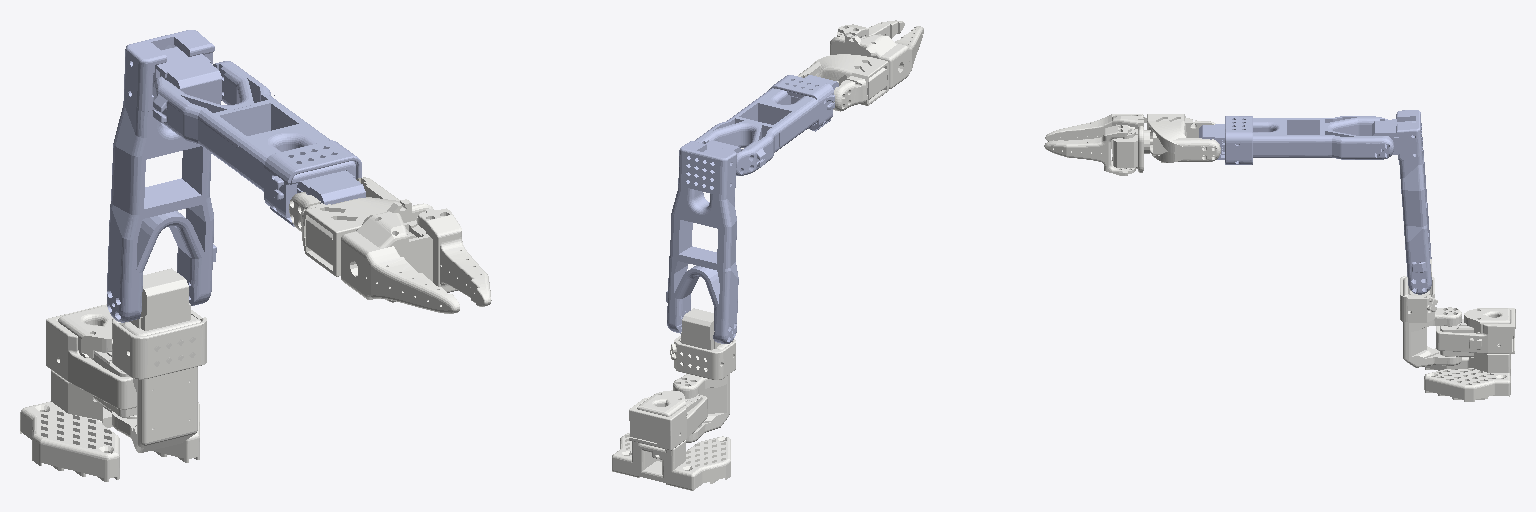
The robot description file, URDF, robot "soarm101_40mmUP":
<?xml version="1.0" encoding="utf-8"?>
<!-- This URDF was automatically created by SolidWorks to URDF Exporter! Originally created by Stephen Brawner (brawner@gmail.com) 
     Commit Version: 1.6.0-4-g7f85cfe  Build Version: 1.6.7995.38578
     For more information, please see http://wiki.ros.org/sw_urdf_exporter -->
<robot
  name="soarm101_40mmUP">
  <link
    name="base_link">
    <inertial>
      <origin
        xyz="-0.00013957 -0.018363 0.030861"
        rpy="0 0 0" />
      <mass
        value="0.189" />
      <inertia
        ixx="0.00013624"
        ixy="5.1198E-07"
        ixz="-6.3004E-09"
        iyy="0.00014751"
        iyz="-2.1157E-05"
        izz="0.00017587" />
    </inertial>
    <visual>
      <origin
        xyz="0 0 0"
        rpy="0 0 0" />
      <geometry>
        <mesh
          filename="package://dt_arm_description/meshes/base_link.STL" />
      </geometry>
      <material
        name="">
        <color
          rgba="0.96471 0.96471 0.95294 1" />
      </material>
    </visual>
    <collision>
      <origin
        xyz="0 0 0"
        rpy="0 0 0" />
      <geometry>
        <mesh
          filename="package://dt_arm_description/meshes/base_link.STL" />
      </geometry>
    </collision>
  </link>
  <link
    name="shoulder_link">
    <inertial>
      <origin
        xyz="0.00010759 0.031165 0.02881"
        rpy="0 0 0" />
      <mass
        value="0.11565" />
      <inertia
        ixx="5.9357E-05"
        ixy="8.6054E-08"
        ixz="-3.6155E-07"
        iyy="5.7575E-05"
        iyz="-4.5285E-06"
        izz="3.2083E-05" />
    </inertial>
    <visual>
      <origin
        xyz="0 0 0"
        rpy="0 0 0" />
      <geometry>
        <mesh
          filename="package://dt_arm_description/meshes/shoulder_link.STL" />
      </geometry>
      <material
        name="">
        <color
          rgba="0.96471 0.96471 0.95294 1" />
      </material>
    </visual>
    <collision>
      <origin
        xyz="0 0 0"
        rpy="0 0 0" />
      <geometry>
        <mesh
          filename="package://dt_arm_description/meshes/shoulder_link.STL" />
      </geometry>
    </collision>
  </link>
  <joint
    name="shoulder_pan"
    type="revolute">
    <origin
      xyz="-0.00025 -0.0449 0.046575"
      rpy="0 0 -3.1416" />
    <parent
      link="base_link" />
    <child
      link="shoulder_link" />
    <axis
      xyz="0 0 1" />
    <limit
      lower="-1.9199"
      upper="1.9199"
      effort="10"
      velocity="10" />
  </joint>
  <link
    name="upper_arm_link">
    <inertial>
      <origin
        xyz="-0.096849 0.0026864 -0.0016724"
        rpy="0 0 0" />
      <mass
        value="0.16075" />
      <inertia
        ixx="6.7583E-05"
        ixy="-1.2542E-06"
        ixz="7.5879E-07"
        iyy="0.00015048"
        iyz="-8.3184E-08"
        izz="0.00010571" />
    </inertial>
    <visual>
      <origin
        xyz="0 0 0"
        rpy="0 0 0" />
      <geometry>
        <mesh
          filename="package://dt_arm_description/meshes/upper_arm_link.STL" />
      </geometry>
      <material
        name="">
        <color
          rgba="0.79216 0.81961 0.93333 1" />
      </material>
    </visual>
    <collision>
      <origin
        xyz="0 0 0"
        rpy="0 0 0" />
      <geometry>
        <mesh
          filename="package://dt_arm_description/meshes/upper_arm_link.STL" />
      </geometry>
    </collision>
  </link>
  <joint
    name="shoulder_lift"
    type="revolute">
    <origin
      xyz="0 0.030635 0.07274"
      rpy="-1.5708 1.5045 -1.5708" />
    <parent
      link="shoulder_link" />
    <child
      link="upper_arm_link" />
    <axis
      xyz="0 0 1" />
    <limit
      lower="-1.7453"
      upper="1.9199"
      effort="10"
      velocity="10" />
  </joint>
  <link
    name="lower_arm_link">
    <inertial>
      <origin
        xyz="-0.085694 -0.00028169 0.0030718"
        rpy="0 0 0" />
      <mass
        value="0.11805" />
      <inertia
        ixx="4.9968E-05"
        ixy="8.0458E-07"
        ixz="-1.0032E-06"
        iyy="0.00010573"
        iyz="6.012E-08"
        izz="7.0167E-05" />
    </inertial>
    <visual>
      <origin
        xyz="0 0 0"
        rpy="0 0 0" />
      <geometry>
        <mesh
          filename="package://dt_arm_description/meshes/lower_arm_link.STL" />
      </geometry>
      <material
        name="">
        <color
          rgba="0.79216 0.81961 0.93333 1" />
      </material>
    </visual>
    <collision>
      <origin
        xyz="0 0 0"
        rpy="0 0 0" />
      <geometry>
        <mesh
          filename="package://dt_arm_description/meshes/lower_arm_link.STL" />
      </geometry>
    </collision>
  </link>
  <joint
    name="elbow_flex"
    type="revolute">
    <origin
      xyz="-0.1526 0.027915 0"
      rpy="-3.1416 0 -1.5045" />
    <parent
      link="upper_arm_link" />
    <child
      link="lower_arm_link" />
    <axis
      xyz="0 0 1" />
    <limit
      lower="-1.69"
      upper="1.85"
      effort="10"
      velocity="10" />
  </joint>
  <link
    name="wrist_link">
    <inertial>
      <origin
        xyz="0.03498 -0.00020857 0.0086046"
        rpy="0 0 0" />
      <mass
        value="0.065834" />
      <inertia
        ixx="2.3965E-05"
        ixy="1.1734E-07"
        ixz="-1.9079E-06"
        iyy="3.3384E-05"
        iyz="2.2254E-08"
        izz="1.864E-05" />
    </inertial>
    <visual>
      <origin
        xyz="0 0 0"
        rpy="0 0 0" />
      <geometry>
        <mesh
          filename="package://dt_arm_description/meshes/wrist_link.STL" />
      </geometry>
      <material
        name="">
        <color
          rgba="0.96471 0.96471 0.95294 1" />
      </material>
    </visual>
    <collision>
      <origin
        xyz="0 0 0"
        rpy="0 0 0" />
      <geometry>
        <mesh
          filename="package://dt_arm_description/meshes/wrist_link.STL" />
      </geometry>
    </collision>
  </link>
  <joint
    name="wrist_flex"
    type="revolute">
    <origin
      xyz="-0.17481 -0.0053153 0.0015555"
      rpy="0 3.14159 0" />
    <parent
      link="lower_arm_link" />
    <child
      link="wrist_link" />
    <axis
      xyz="0 0 1" />
    <limit
      lower="-1.6581"
      upper="1.6581"
      effort="10"
      velocity="10" />
  </joint>
  <link
    name="gripper_link">
    <inertial>
      <origin
        xyz="-0.0063006 -0.00054179 0.027703"
        rpy="0 0 0" />
      <mass
        value="0.090145" />
      <inertia
        ixx="4.1215E-05"
        ixy="4.6793E-07"
        ixz="6.8356E-06"
        iyy="4.8738E-05"
        iyz="-1.1223E-07"
        izz="2.8887E-05" />
    </inertial>
    <visual>
      <origin
        xyz="0 0 0"
        rpy="0 0 0" />
      <geometry>
        <mesh
          filename="package://dt_arm_description/meshes/gripper_link.STL" />
      </geometry>
      <material
        name="">
        <color
          rgba="0.96471 0.96471 0.95294 1" />
      </material>
    </visual>
    <collision>
      <origin
        xyz="0 0 0"
        rpy="0 0 0" />
      <geometry>
        <mesh
          filename="package://dt_arm_description/meshes/gripper_link.STL" />
      </geometry>
    </collision>
  </link>
  <joint
    name="wrist_roll"
    type="revolute">
    <origin
      xyz="0.05981 -0.00025321 0.001085"
      rpy="0 1.5708 0" />
    <parent
      link="wrist_link" />
    <child
      link="gripper_link" />
    <axis
      xyz="0 0 1" />
    <limit
      lower="-2.7439"
      upper="2.8412"
      effort="10"
      velocity="10" />
  </joint>
  <link
    name="moving_jaw_so101">
    <inertial>
      <origin
        xyz="-0.0015748 -0.030022 0.00037563"
        rpy="0 0 0" />
      <mass
        value="0.020692" />
      <inertia
        ixx="1.1404E-05"
        ixy="-5.5139E-07"
        ixz="-1.0186E-08"
        iyy="3.2598E-06"
        iyz="-1.8949E-07"
        izz="9.1157E-06" />
    </inertial>
    <visual>
      <origin
        xyz="0 0 0"
        rpy="0 0 0" />
      <geometry>
        <mesh
          filename="package://dt_arm_description/meshes/moving_jaw_so101.STL" />
      </geometry>
      <material
        name="">
        <color
          rgba="0.96471 0.96471 0.95294 1" />
      </material>
    </visual>
    <collision>
      <origin
        xyz="0 0 0"
        rpy="0 0 0" />
      <geometry>
        <mesh
          filename="package://dt_arm_description/meshes/moving_jaw_so101.STL" />
      </geometry>
    </collision>
  </link>
  <joint
    name="gripper"
    type="revolute">
    <origin
      xyz="0.020115 0.00012179 0.024315"
      rpy="-1.5708 0 0" />
    <parent
      link="gripper_link" />
    <child
      link="moving_jaw_so101" />
    <axis
      xyz="0 0 1" />
    <limit
      lower="-0.17453"
      upper="1.7453"
      effort="10"
      velocity="10" />
  </joint>
</robot>

--- Render facts (derived) ---
The picture shows the robot from 3 angles, left to right: view 1: azimuth 30°, elevation 25°; view 2: azimuth 150°, elevation 25°; view 3: azimuth 270°, elevation 25°; orthographic projection.
Robot: soarm101_40mmUP — 7 links, 6 joints (6 revolute); root link base_link; default pose: every joint at zero.
Visible links, largest first — view 1: upper_arm_link, lower_arm_link, base_link, shoulder_link, gripper_link, wrist_link, moving_jaw_so101; view 2: upper_arm_link, base_link, lower_arm_link, shoulder_link, wrist_link, gripper_link, moving_jaw_so101; view 3: lower_arm_link, base_link, upper_arm_link, shoulder_link, wrist_link, gripper_link, moving_jaw_so101.
Boxes of the visible links, x1=… form: upper_arm_link: x1=107, y1=30, x2=221, y2=322; lower_arm_link: x1=153, y1=61, x2=365, y2=226; base_link: x1=20, y1=304, x2=199, y2=481; shoulder_link: x1=112, y1=268, x2=206, y2=452; gripper_link: x1=341, y1=199, x2=459, y2=313; wrist_link: x1=289, y1=177, x2=401, y2=276; moving_jaw_so101: x1=417, y1=208, x2=491, y2=306; upper_arm_link: x1=666, y1=140, x2=741, y2=343; base_link: x1=612, y1=390, x2=730, y2=490; lower_arm_link: x1=695, y1=75, x2=838, y2=175; shoulder_link: x1=670, y1=308, x2=735, y2=442; wrist_link: x1=798, y1=54, x2=888, y2=111; gripper_link: x1=830, y1=26, x2=923, y2=88; moving_jaw_so101: x1=837, y1=20, x2=904, y2=38; lower_arm_link: x1=1199, y1=116, x2=1393, y2=164; base_link: x1=1424, y1=308, x2=1515, y2=401; upper_arm_link: x1=1372, y1=110, x2=1431, y2=294; shoulder_link: x1=1400, y1=259, x2=1461, y2=367; wrist_link: x1=1147, y1=114, x2=1220, y2=162; gripper_link: x1=1045, y1=114, x2=1149, y2=172; moving_jaw_so101: x1=1044, y1=125, x2=1135, y2=175.
Bounding box of the posed robot: 0.1109 × 0.4754 × 0.2919 m (x, y, z).
Meshes: 7 distinct files referenced, 7 mesh visuals loaded (7 binary STL).
